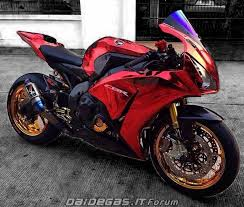motorcycle: (7, 21, 239, 194)
